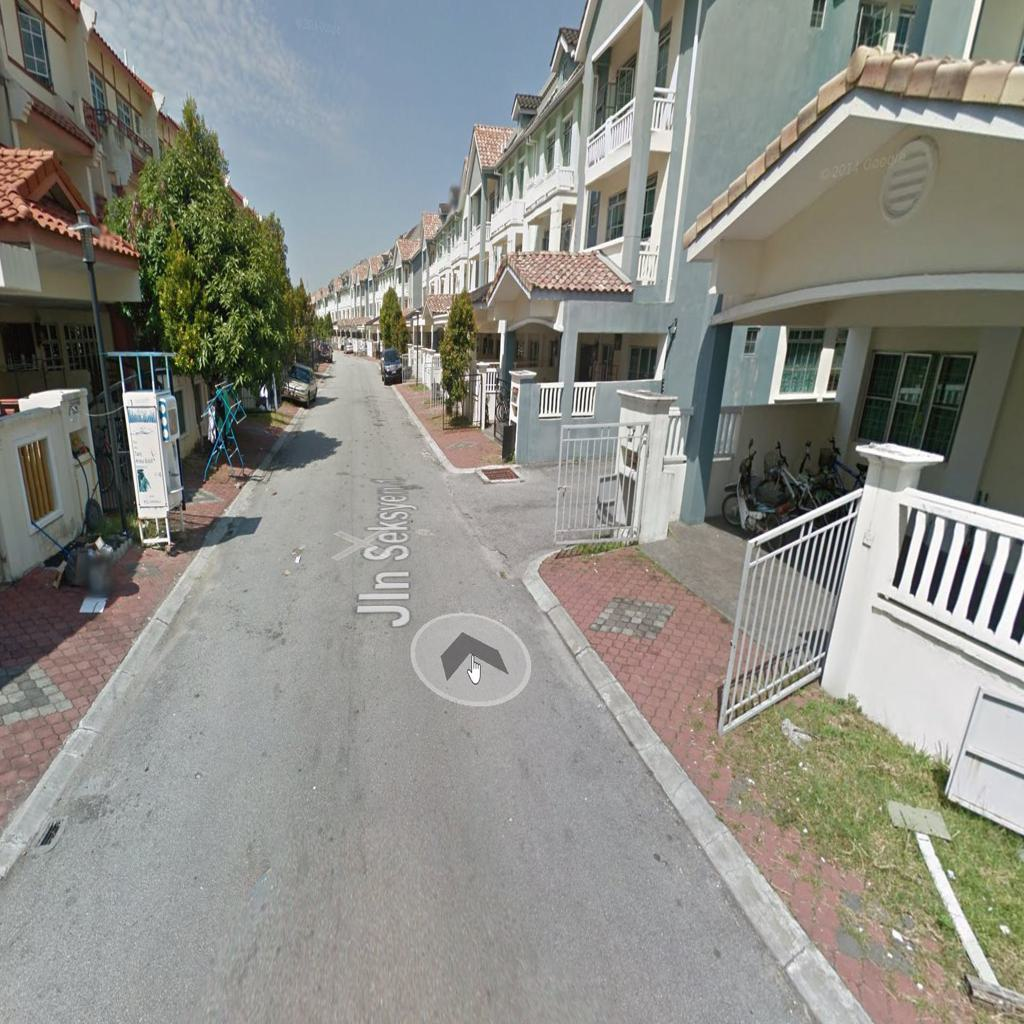Junction: (413, 445, 623, 595)
